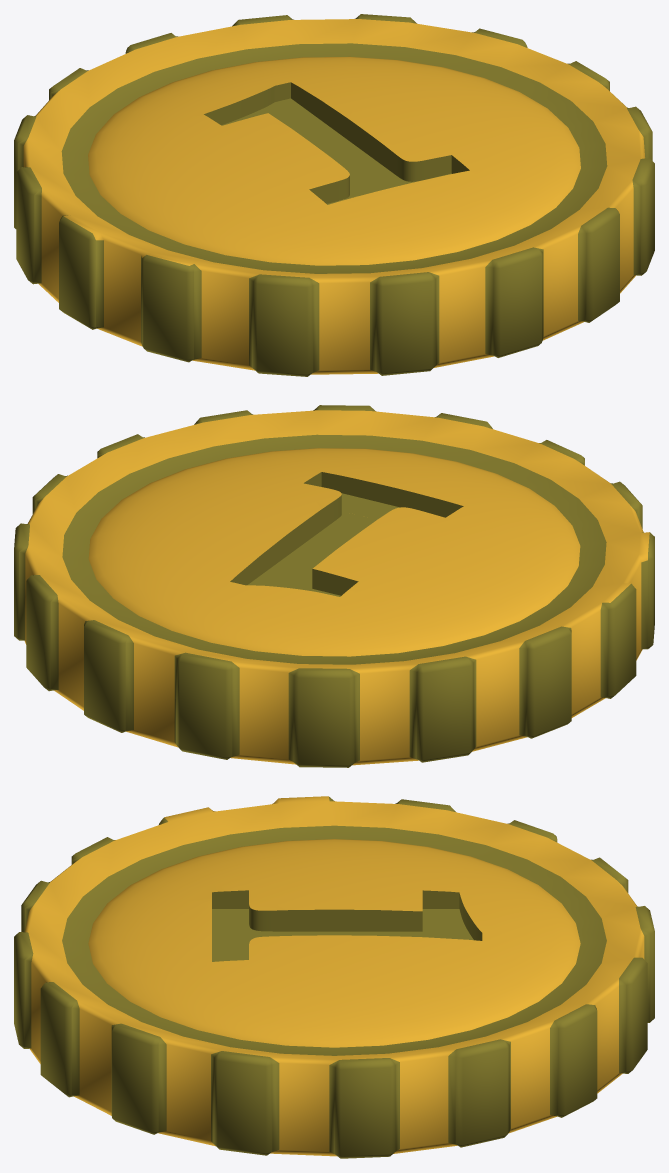
File: Coin4.fbx
The picture shows the model from 3 angles, top to bottom: view 1: azimuth 30°, elevation 25°; view 2: azimuth 150°, elevation 25°; view 3: azimuth 270°, elevation 25°; orthographic projection.
Visible parts, largest first — view 1: Cylinder.001; view 2: Cylinder.001; view 3: Cylinder.001.
Boxes of the visible parts, x1,y1,x2,y2 form: Cylinder.001: [14, 14, 654, 376]; Cylinder.001: [14, 405, 654, 767]; Cylinder.001: [14, 796, 654, 1158].
Size of the model in its own units: 88.54 by 16.03 by 88.54.
